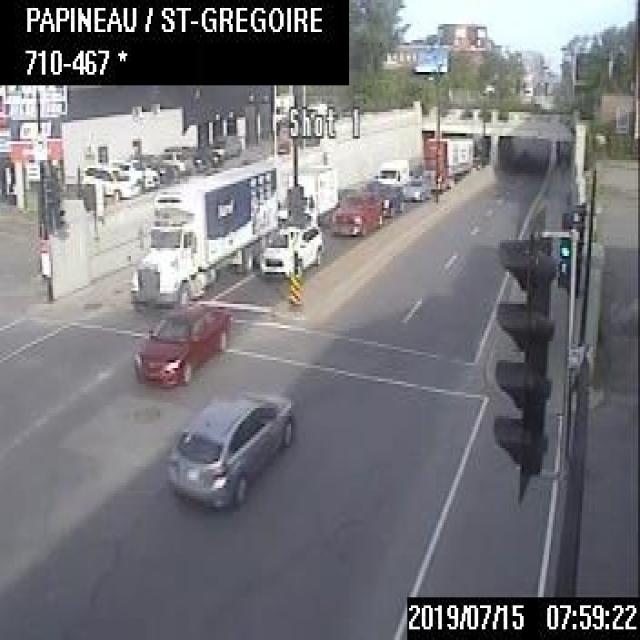vehicle: (129, 156, 279, 303), (164, 386, 292, 507), (127, 298, 234, 382), (258, 217, 324, 278), (285, 161, 337, 222), (422, 134, 473, 184), (329, 190, 384, 236), (78, 161, 138, 199), (133, 150, 172, 178), (121, 157, 158, 186), (376, 159, 408, 187), (403, 170, 432, 200), (371, 185, 401, 210), (157, 150, 186, 171)
